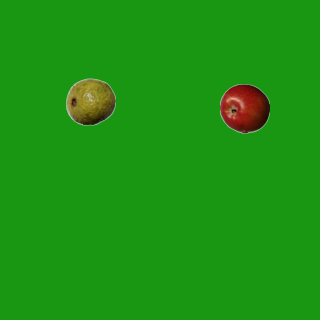Apple Braeburn: (219, 83, 269, 133)
Guava: (65, 76, 115, 126)
